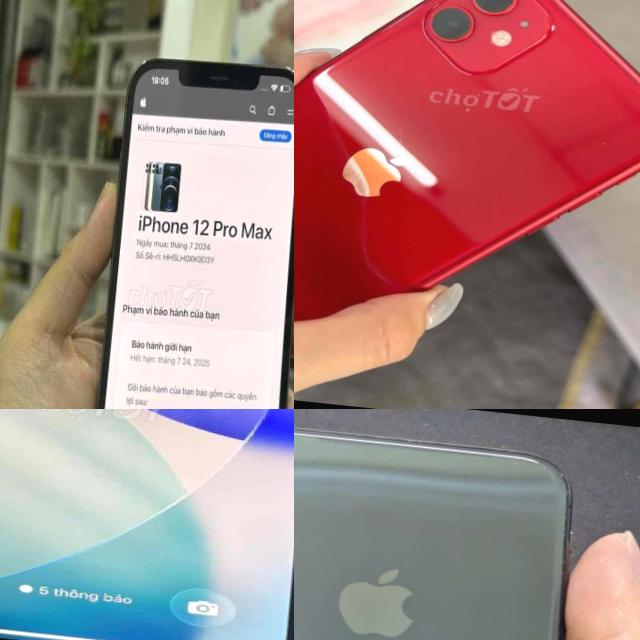gen_11: (294, 0, 640, 409)
gen_12_13: (76, 44, 294, 409), (0, 409, 294, 640)
gen_x_xs: (294, 409, 605, 640)
scratch: (495, 443, 591, 540), (392, 431, 454, 464)
